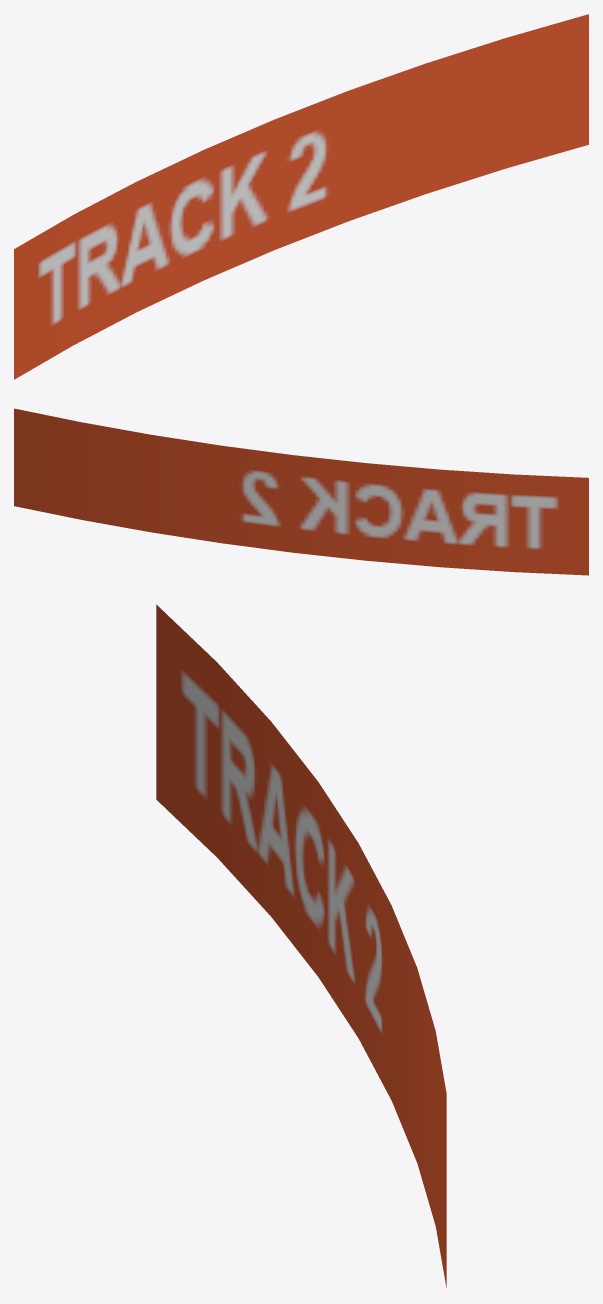
Rendered from track2.glb.
3 renders of one model, top to bottom at view 1: azimuth 30°, elevation 25°; view 2: azimuth 150°, elevation 25°; view 3: azimuth 270°, elevation 25°, orthographic. The views are drawn at different scales.
Visible parts, largest first — view 1: menu_2_tr2.001; view 2: menu_2_tr2.001; view 3: menu_2_tr2.001.
Boxes of the visible parts, x1,y1,x2,y2 form: menu_2_tr2.001: (14,14,588,379); menu_2_tr2.001: (14,408,588,575); menu_2_tr2.001: (156,604,446,1287).
Size of the model in its own units: 2.74 by 0.509 by 0.6864.
Materials: 1 (1 with a texture image).
